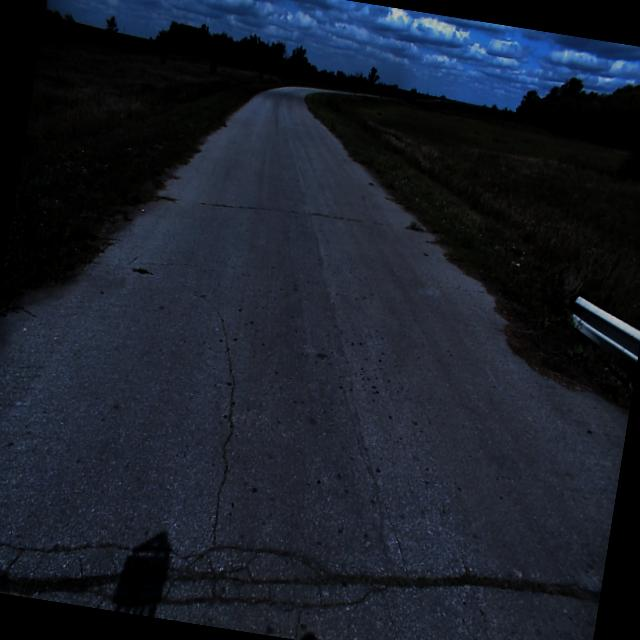road: (0, 85, 628, 640)
